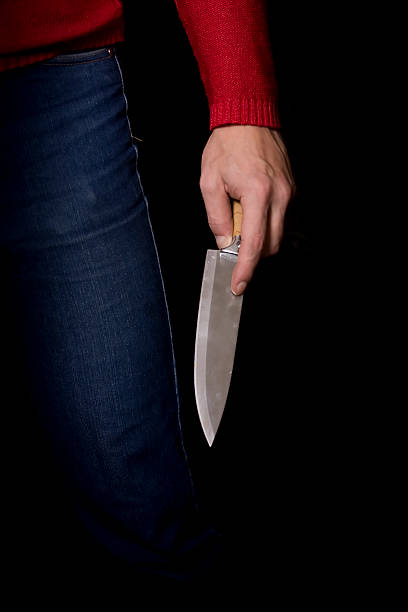knife: (190, 203, 255, 449)
